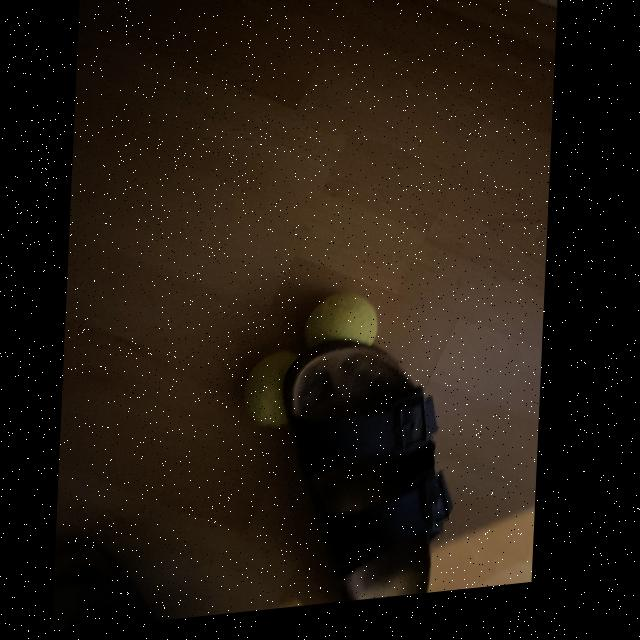Tennisball: (244, 350, 298, 427), (304, 293, 378, 348)
